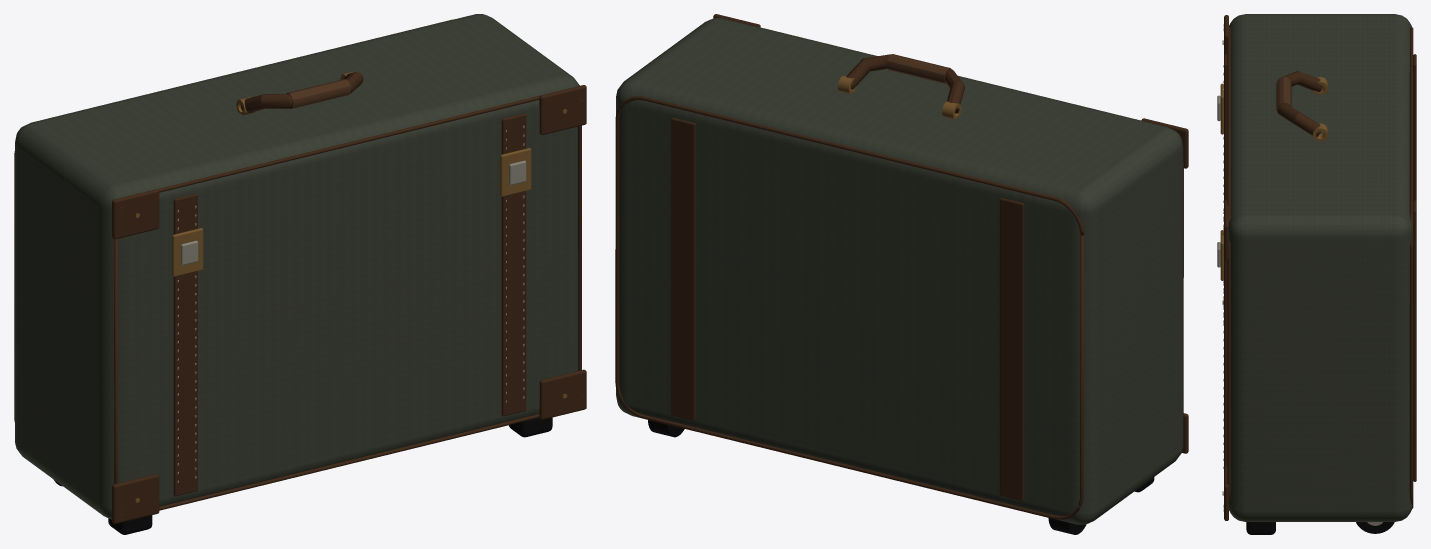
Rendered from D04_SuitcaseCanvas.fbx.
3 renders of one model, left to right at view 1: azimuth 30°, elevation 25°; view 2: azimuth 150°, elevation 25°; view 3: azimuth 270°, elevation 25°, orthographic. The views are drawn at different scales.
Visible parts, largest first — view 1: CaseShell_Mesh, HandlePivot_Mesh, LatchLeft_Mesh, LatchRight_Mesh; view 2: CaseShell_Mesh, HandlePivot_Mesh; view 3: CaseShell_Mesh, HandlePivot_Mesh, WheelLeft_Mesh, LatchRight_Mesh, LatchLeft_Mesh.
Part boxes in pixels (left/top/right/bottom): CaseShell_Mesh: left=14, top=14, right=586, bottom=534; HandlePivot_Mesh: left=240, top=71, right=363, bottom=112; LatchLeft_Mesh: left=500, top=148, right=531, bottom=196; LatchRight_Mesh: left=172, top=228, right=203, bottom=276; CaseShell_Mesh: left=615, top=14, right=1188, bottom=524; HandlePivot_Mesh: left=846, top=54, right=964, bottom=113; CaseShell_Mesh: left=1222, top=14, right=1416, bottom=534; HandlePivot_Mesh: left=1276, top=71, right=1323, bottom=137; WheelLeft_Mesh: left=1356, top=522, right=1394, bottom=533; LatchRight_Mesh: left=1217, top=83, right=1223, bottom=134; LatchLeft_Mesh: left=1217, top=230, right=1223, bottom=280.
Bounding box in the file's own units: 0.6 × 0.458 × 0.236.
